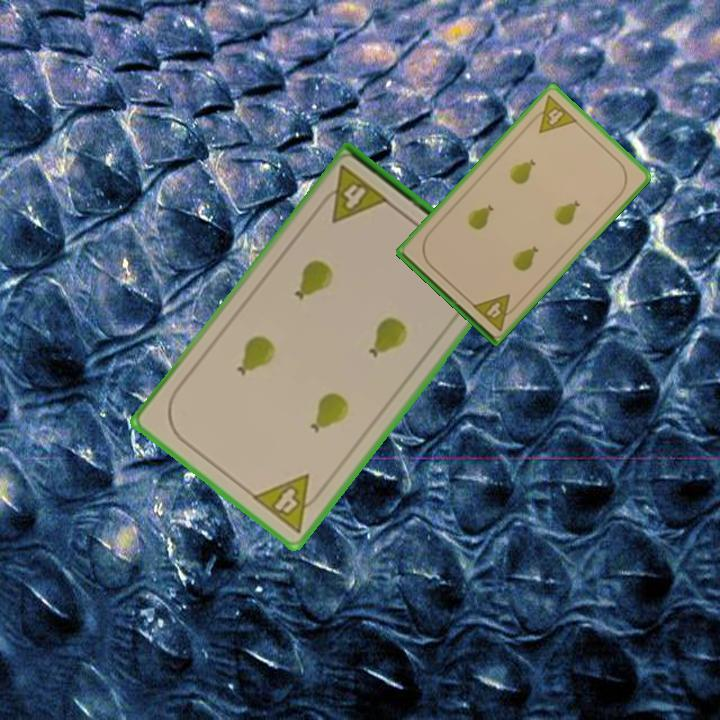4p: (248, 470, 329, 536), (314, 162, 392, 228), (526, 92, 580, 136), (469, 290, 522, 334)
